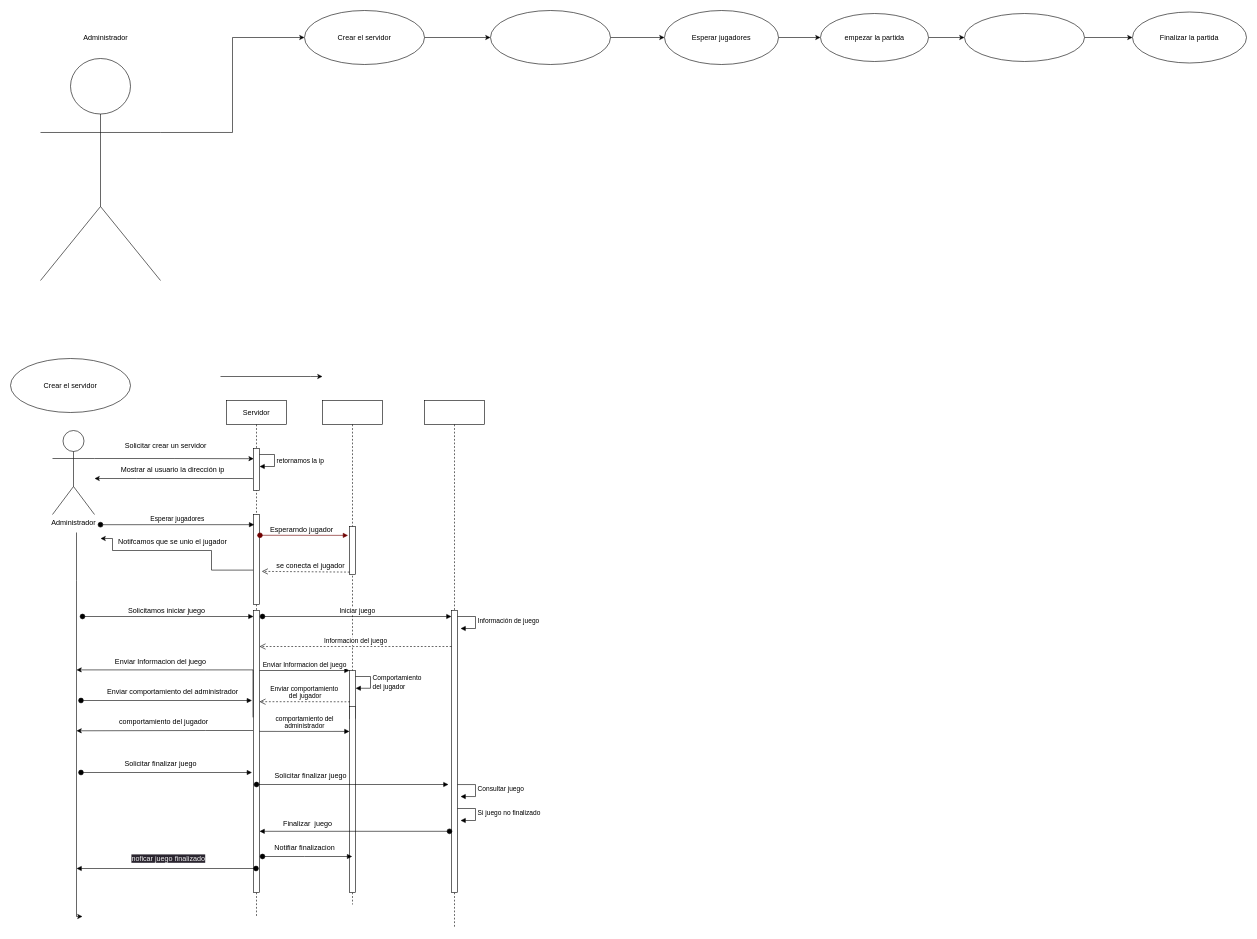
Image size: 1257x939. Some labels were removed from this diagram. The box of each missing label's shape, as (x1, y1, x2, y2) in pixels:
Juego: (424, 400, 484, 928)
Jugador: (322, 400, 382, 904)
Jugar la partida: (964, 13, 1084, 62)
Obtener una Ip: (490, 10, 610, 64)
